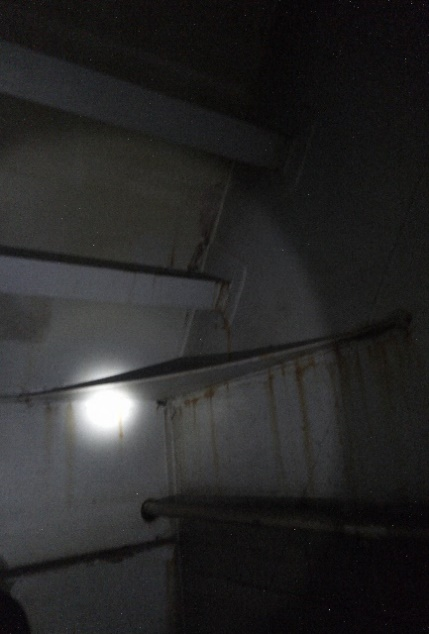corrosion: (322, 357, 375, 483), (286, 365, 319, 491), (192, 391, 231, 486), (255, 373, 282, 481)
